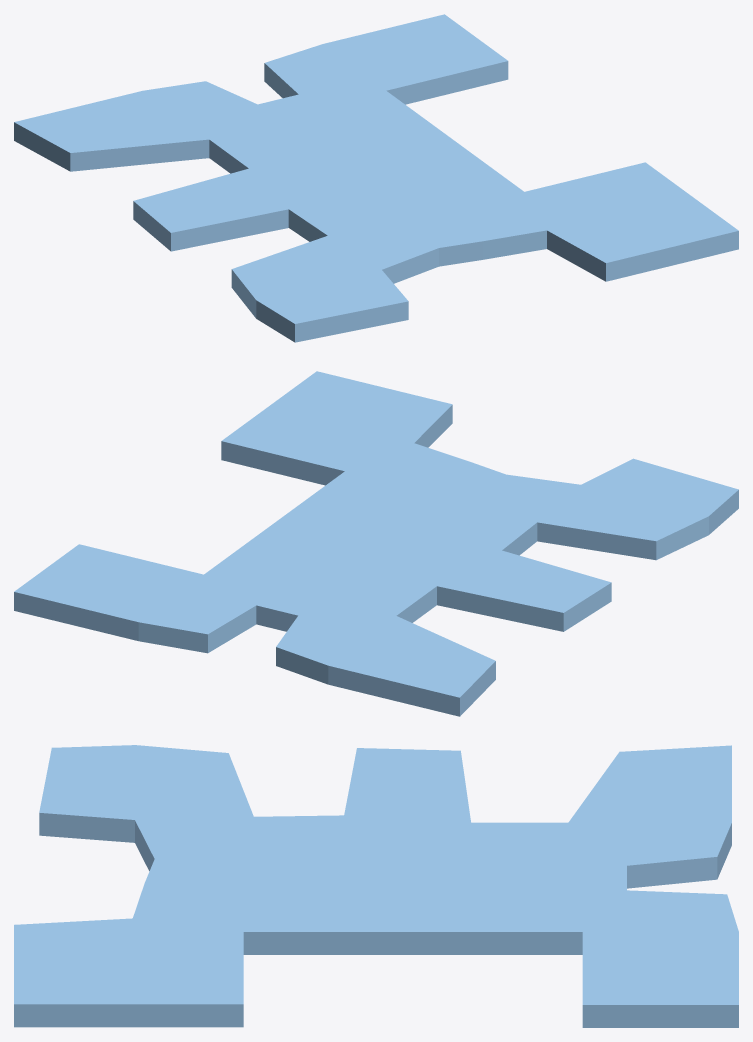
The model's file is IceLevelGround.fbx.
The picture shows the model from 3 angles, top to bottom: view 1: azimuth 30°, elevation 25°; view 2: azimuth 150°, elevation 25°; view 3: azimuth 270°, elevation 25°; orthographic projection. The views are drawn at different scales.
Parts seen in each view (by area): view 1: Ground; view 2: Ground; view 3: Ground.
Part boxes in pixels (left/top/right/bottom): Ground: left=14, top=14, right=738, bottom=342; Ground: left=14, top=371, right=738, bottom=716; Ground: left=14, top=745, right=738, bottom=1027.
Size of the model in its own units: 17.25 by 0.7067 by 20.32.
